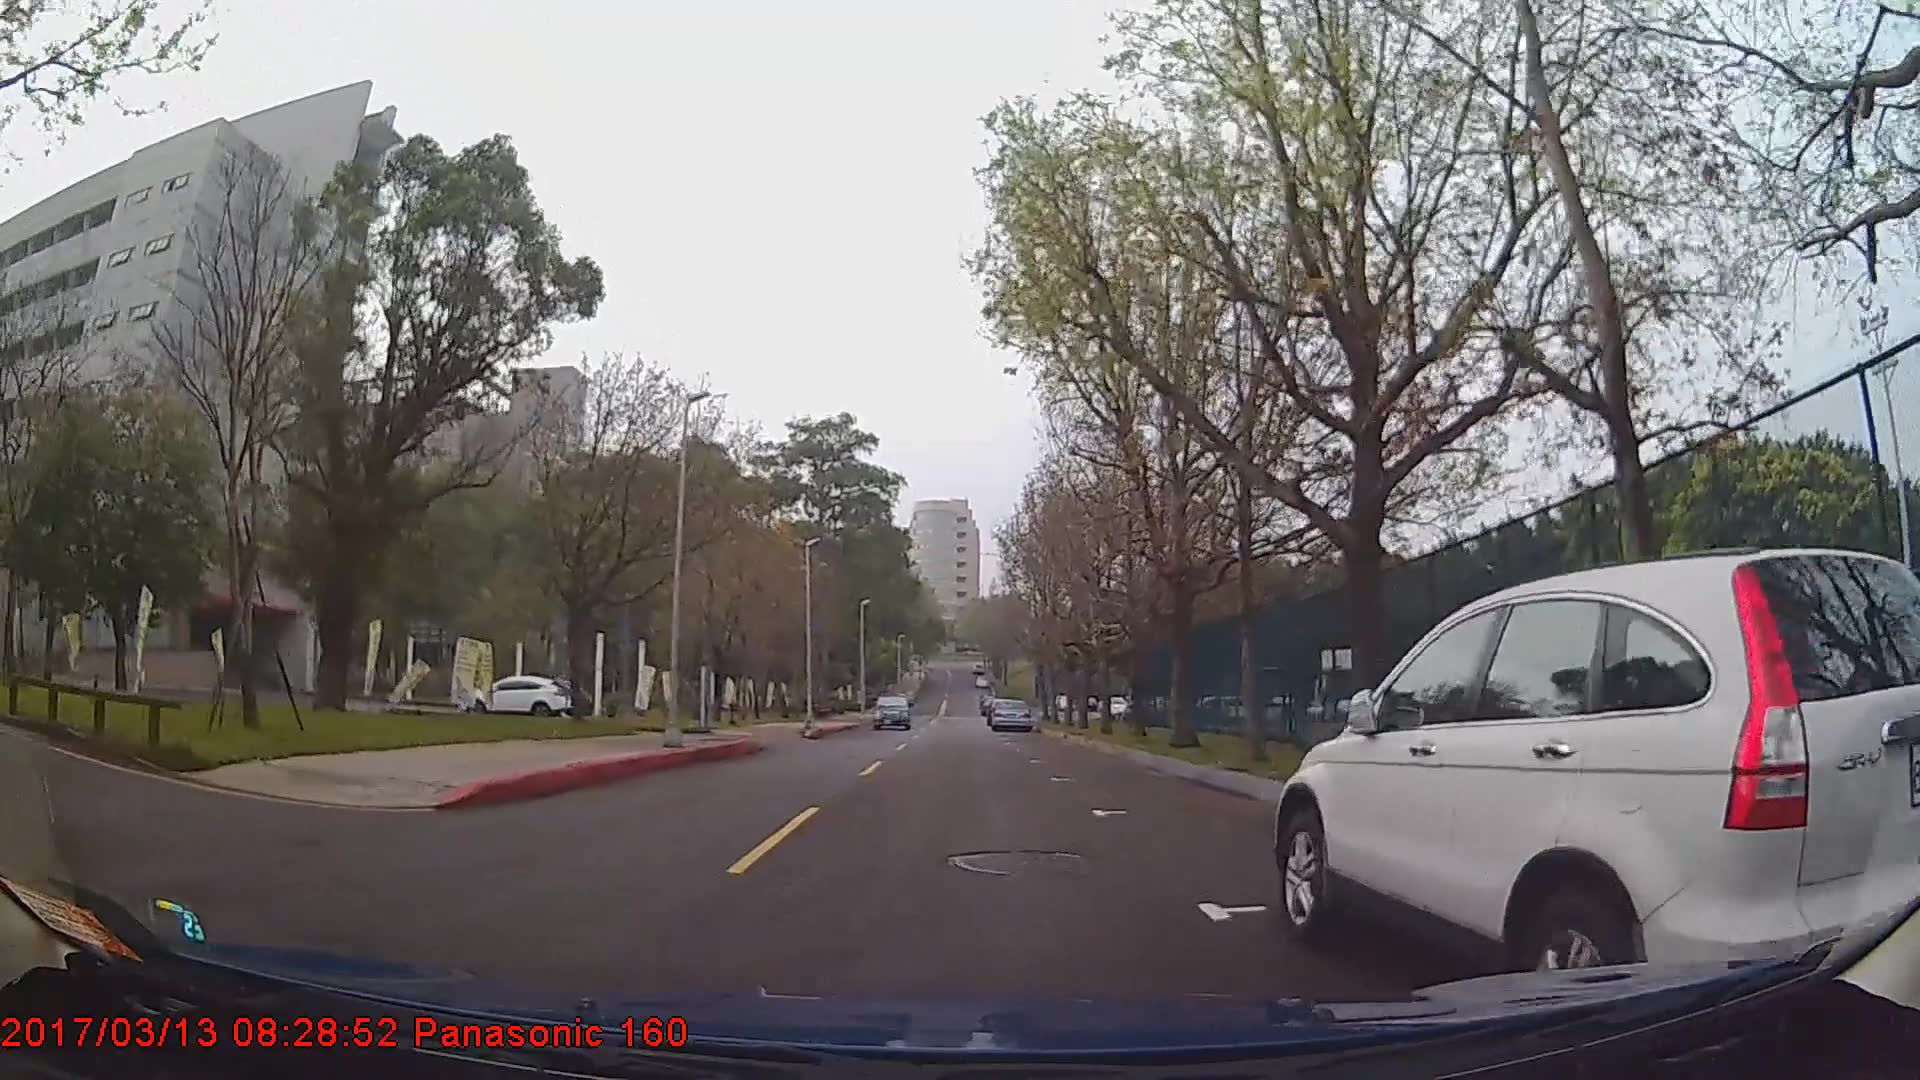vehicle: (1274, 547, 1920, 1029), (465, 673, 574, 719), (873, 691, 913, 729), (989, 696, 1030, 732)
